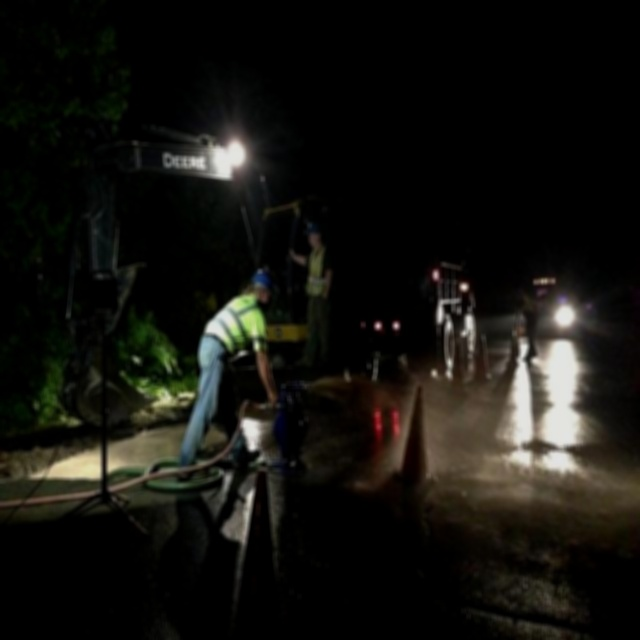Con_Chaleco: (204, 297, 266, 359), (305, 248, 332, 297)
